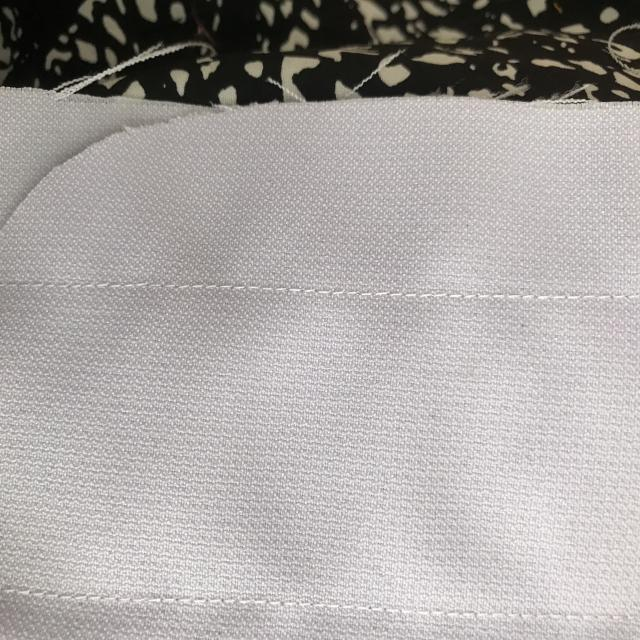good: (45, 276, 543, 308), (72, 585, 172, 610)
